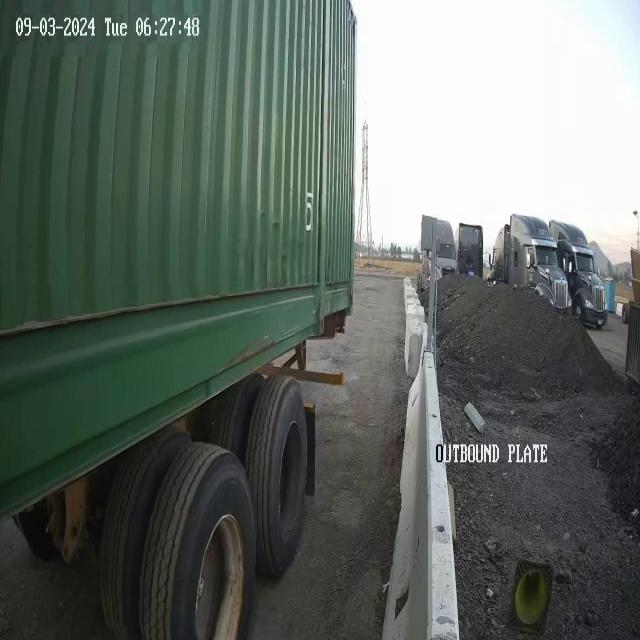TRUCK_OUT: (0, 1, 358, 637)
